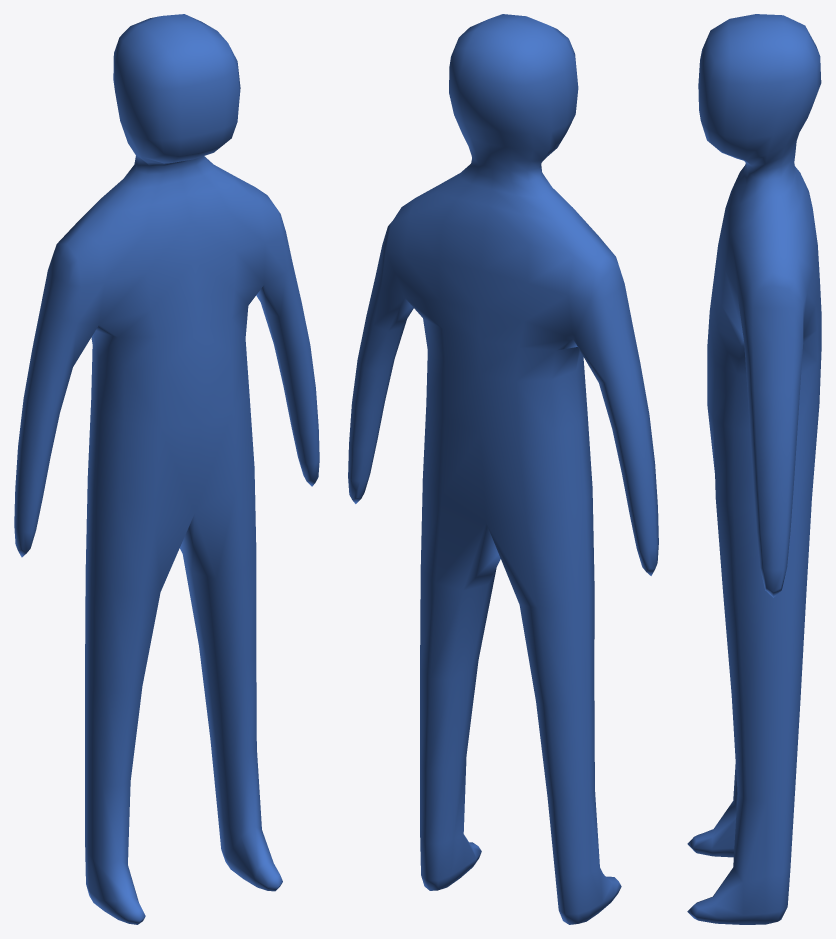
File: player.glb
The picture shows the model from 3 angles, left to right: view 1: azimuth 30°, elevation 25°; view 2: azimuth 150°, elevation 25°; view 3: azimuth 270°, elevation 25°; orthographic projection.
Visible parts, largest first — view 1: Cube; view 2: Cube; view 3: Cube.
Part boxes in pixels (x1,y1,x2,y2): Cube: (14,14,319,924); Cube: (348,14,658,924); Cube: (687,14,821,924).
Size of the model in its own units: 2.23 by 6.15 by 0.8624.
